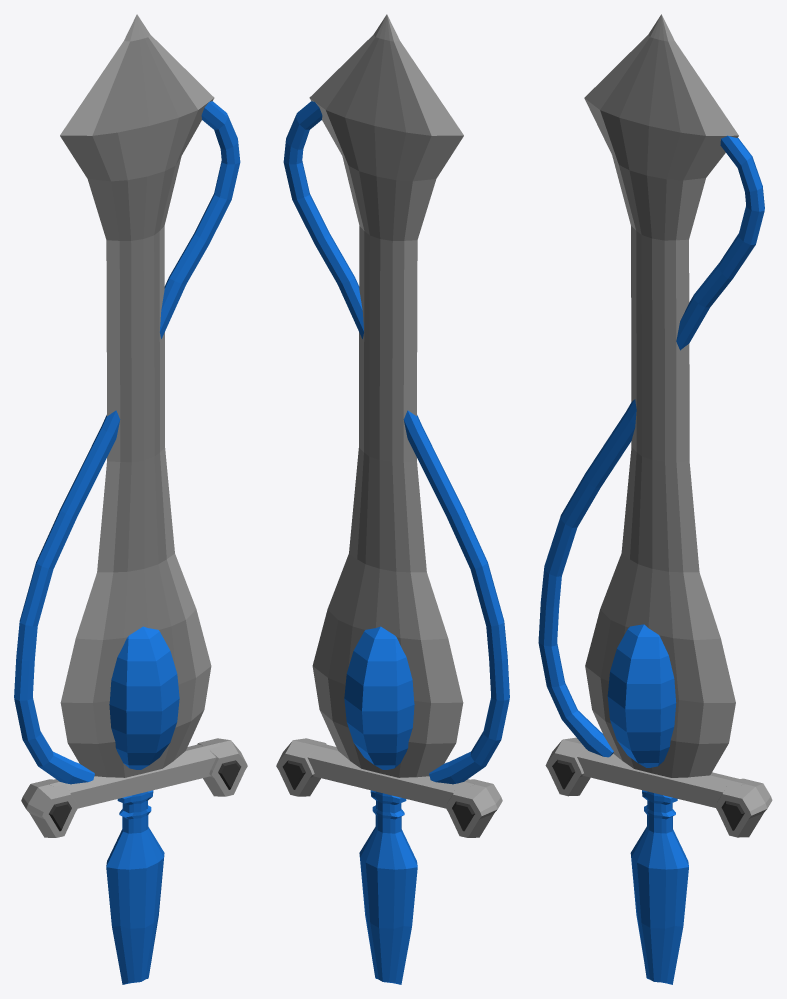
The model's file is sword6.fbx.
3 views of the same model, side by side, from view 1: azimuth 30°, elevation 25°; view 2: azimuth 150°, elevation 25°; view 3: azimuth 330°, elevation 25° (orthographic).
Parts seen in each view (by area): view 1: Cylinder.004, Cylinder.005, Cube.010, Sphere, Cube.009; view 2: Cylinder.004, Cylinder.005, Cube.010, Sphere, Cube.009; view 3: Cylinder.004, Cylinder.005, Cube.010, Sphere, Cube.009.
Boxes of the visible parts, bbox=[...] form: Cylinder.004: bbox=[60, 14, 214, 777]; Cylinder.005: bbox=[14, 101, 240, 784]; Cube.010: bbox=[106, 790, 164, 984]; Sphere: bbox=[109, 626, 179, 769]; Cube.009: bbox=[21, 738, 247, 837]; Cylinder.004: bbox=[309, 14, 463, 777]; Cylinder.005: bbox=[283, 101, 509, 784]; Cube.010: bbox=[359, 790, 417, 984]; Sphere: bbox=[344, 626, 414, 769]; Cube.009: bbox=[276, 738, 502, 837]; Cylinder.004: bbox=[584, 14, 738, 777]; Cylinder.005: bbox=[538, 135, 764, 757]; Cube.010: bbox=[630, 790, 688, 984]; Sphere: bbox=[607, 624, 676, 767]; Cube.009: bbox=[545, 737, 772, 837].
Bounding box in the file's own units: 179 × 723 × 82.88.
